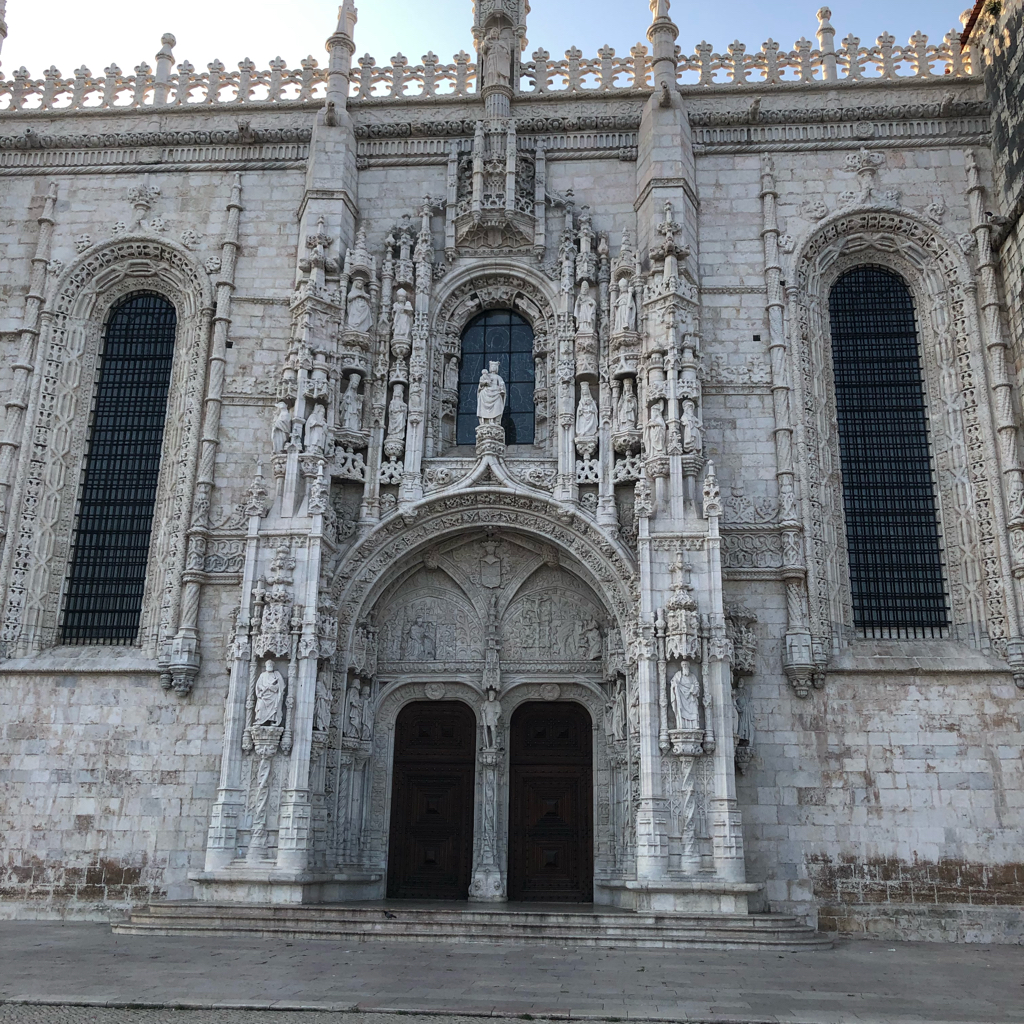arco-conopial: (412, 444, 565, 506)
arco-medio-punto: (338, 502, 634, 681), (788, 198, 976, 306), (44, 229, 213, 326), (432, 274, 549, 347)
